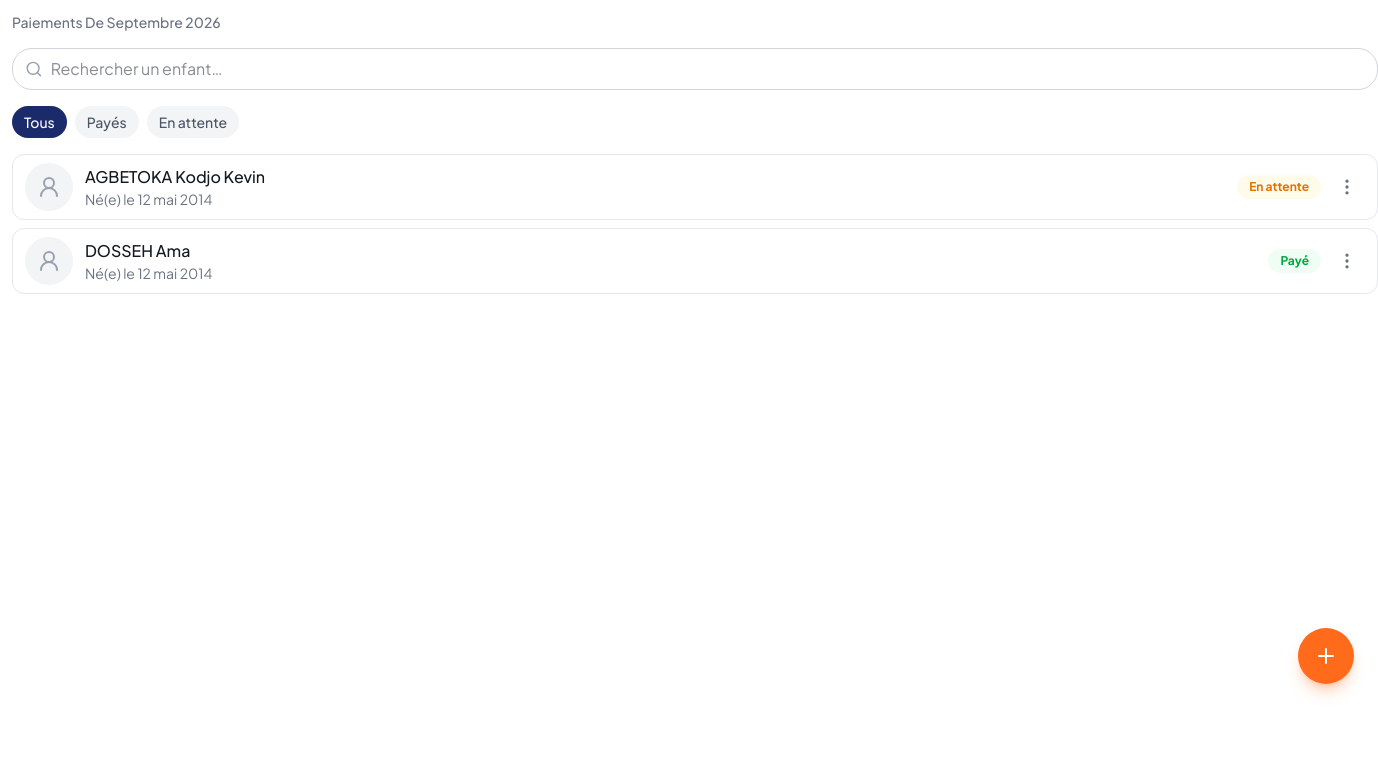
PlayerList › filtre par nom au fur et à mesure de la recherche
Type "dosseh" into the search field labelled "Rechercher un enfant". click: (708, 69)
box: top-left (51, 57), bottom-right (1365, 81)
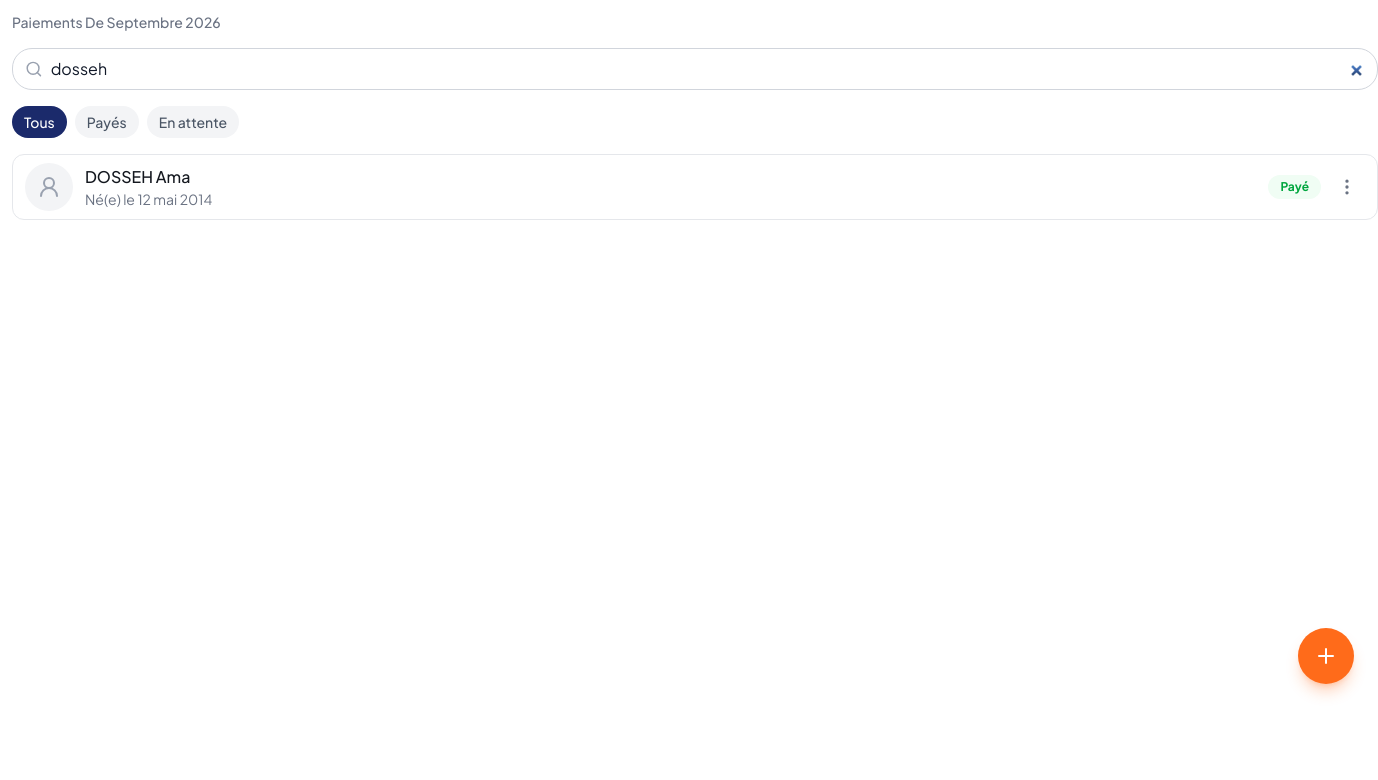
Expected: the text "DOSSEH Ama" is shown, top-left (85, 166), bottom-right (190, 187)
Result: the link "AGBETOKA Kodjo Kevin" is gone
